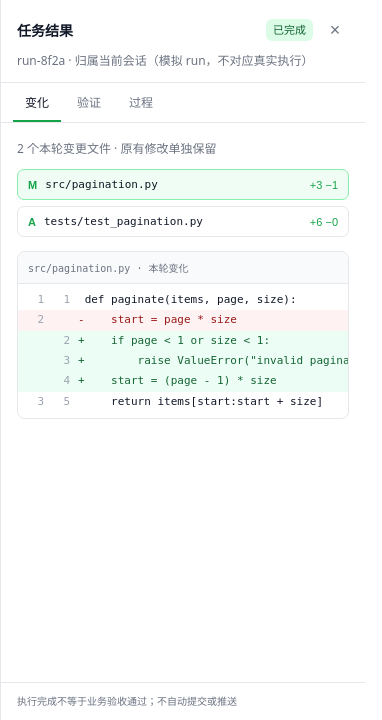
TaskInspector 页签 › 点击「验证」切到验证页签，「过程」切到时间线
Click the tab "验证": (89, 102) top-left (65, 83), bottom-right (113, 122)
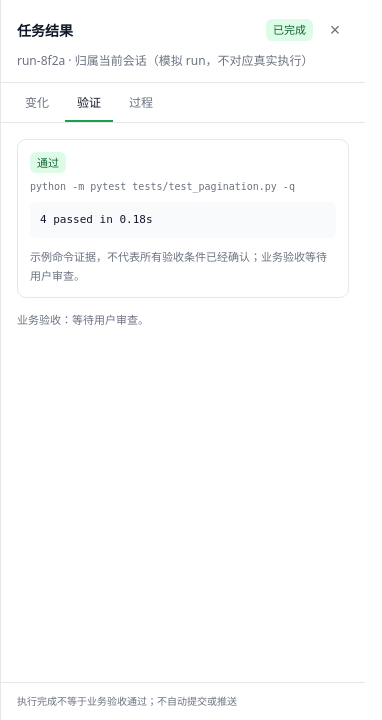
Expected: the text with test id "validation-pill" reads "通过", top-left (37, 155), bottom-right (59, 170)
Expected: the text "本轮变更文件" is gone
Click the tab "过程": (141, 102) top-left (117, 83), bottom-right (165, 122)
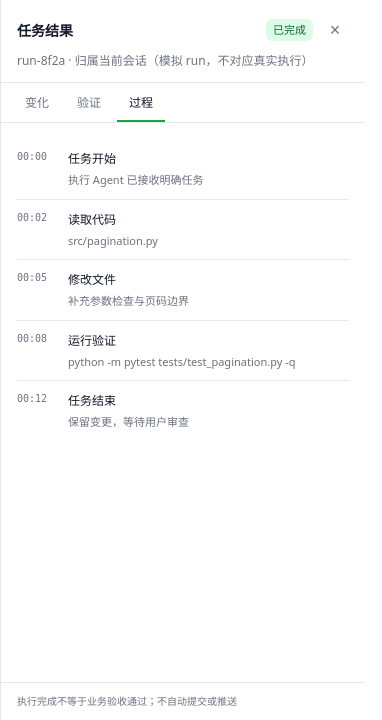
Expected: the text "python -m pytest tests/test_pagination.py -q" is shown, top-left (68, 354), bottom-right (296, 369)
Expected: the text "任务开始" is shown, top-left (68, 150), bottom-right (116, 167)
Expected: the text with test id "validation-pill" is gone
